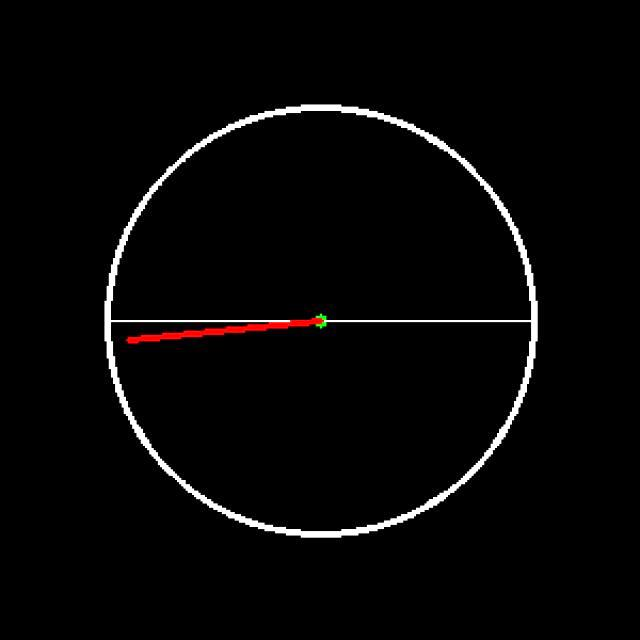Needle_Tip: (117, 317, 158, 364)
Needle_base: (285, 299, 358, 361)
